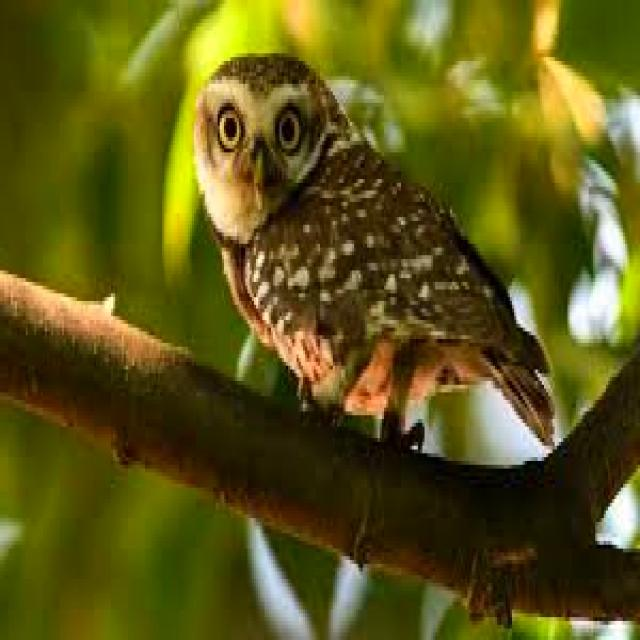owl: (194, 53, 555, 442)
